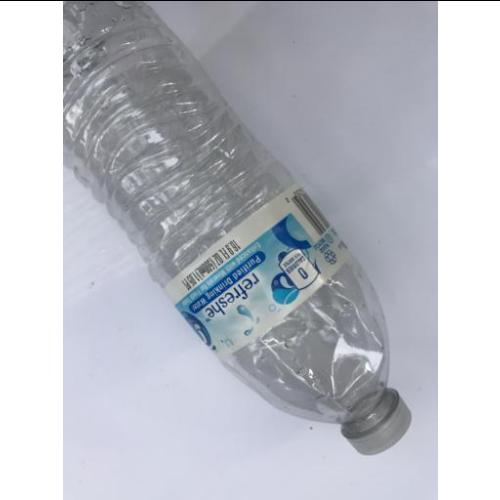plastic: (63, 2, 413, 458)
